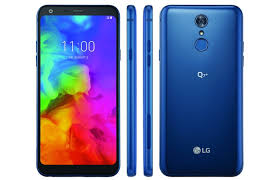lg: (158, 2, 243, 179), (36, 1, 121, 176)
